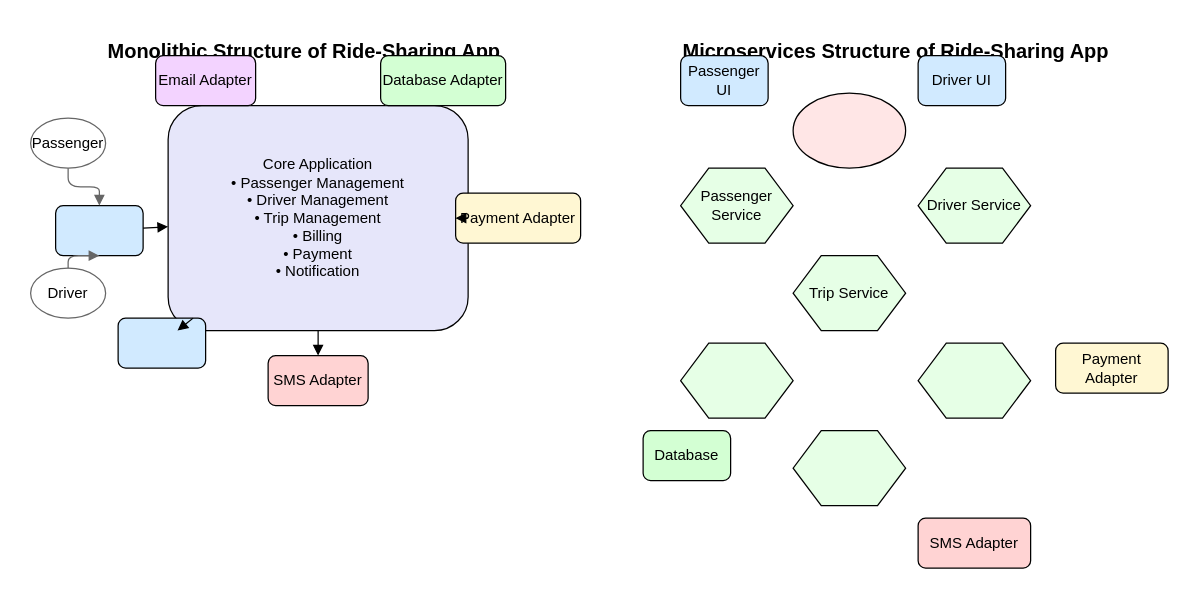
This 1190x590 diagram has some shape labels left out. The centre of each missing label's shape, as x and y in pixels:
"API Gateway" belongs at point 849,130.
"Billing Service" belongs at point 736,380.
"Mobile App" belongs at point 98,230.
"Notification Service" belongs at point 849,467.
"Payment Service" belongs at point 974,380.
"Web App" belongs at point 161,342.
